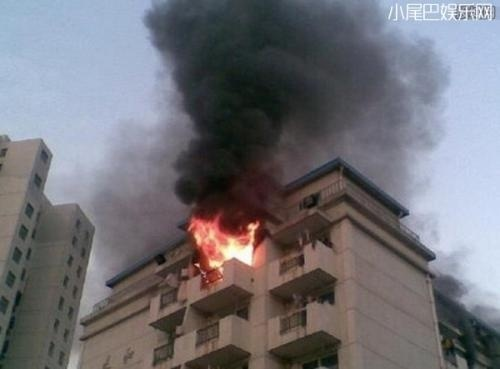fire: (188, 215, 260, 268)
